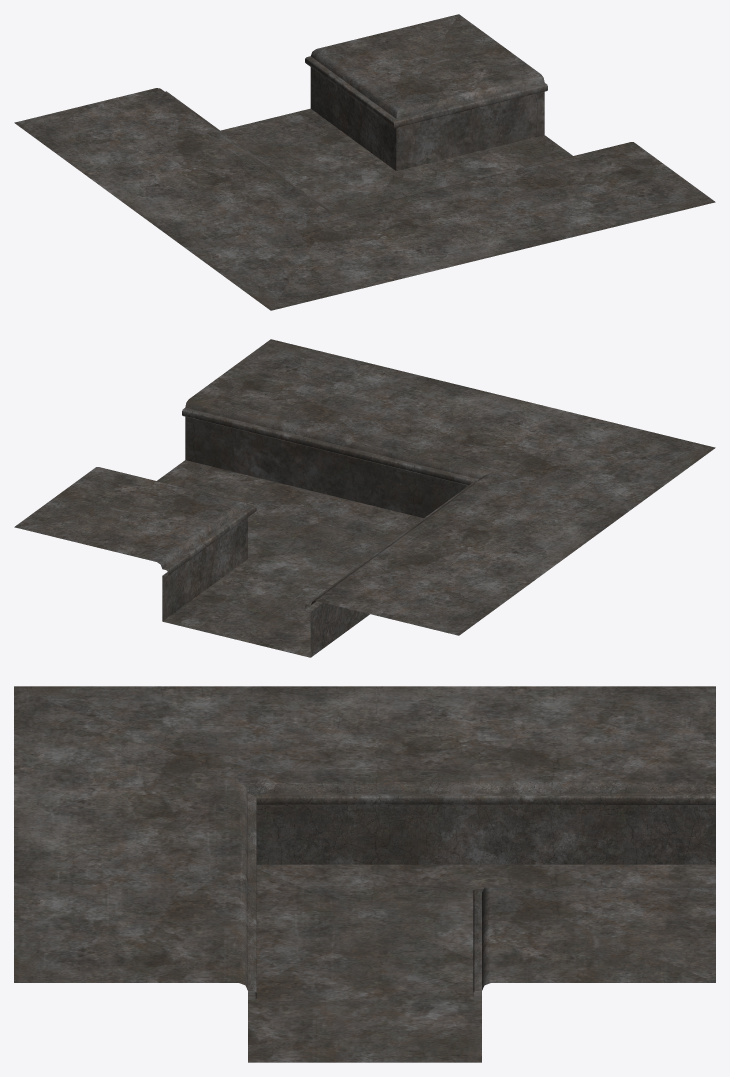
File: Basement_Corridor_A_Floor_Vent_Corner.glb
3 renders of one model, top to bottom at view 1: azimuth 30°, elevation 25°; view 2: azimuth 150°, elevation 25°; view 3: azimuth 270°, elevation 25°, orthographic. The views are drawn at different scales.
Parts seen in each view (by area): view 1: Basement_Corridor_A_Floor_Vent_Corner; view 2: Basement_Corridor_A_Floor_Vent_Corner; view 3: Basement_Corridor_A_Floor_Vent_Corner.
Part boxes in pixels (<box>): Basement_Corridor_A_Floor_Vent_Corner: <box>14,14,715,310</box>; Basement_Corridor_A_Floor_Vent_Corner: <box>14,339,715,657</box>; Basement_Corridor_A_Floor_Vent_Corner: <box>14,686,715,1062</box>.
Bounding box in the file's own units: 4 × 0.5 × 4.
1 material, 1 textured.
